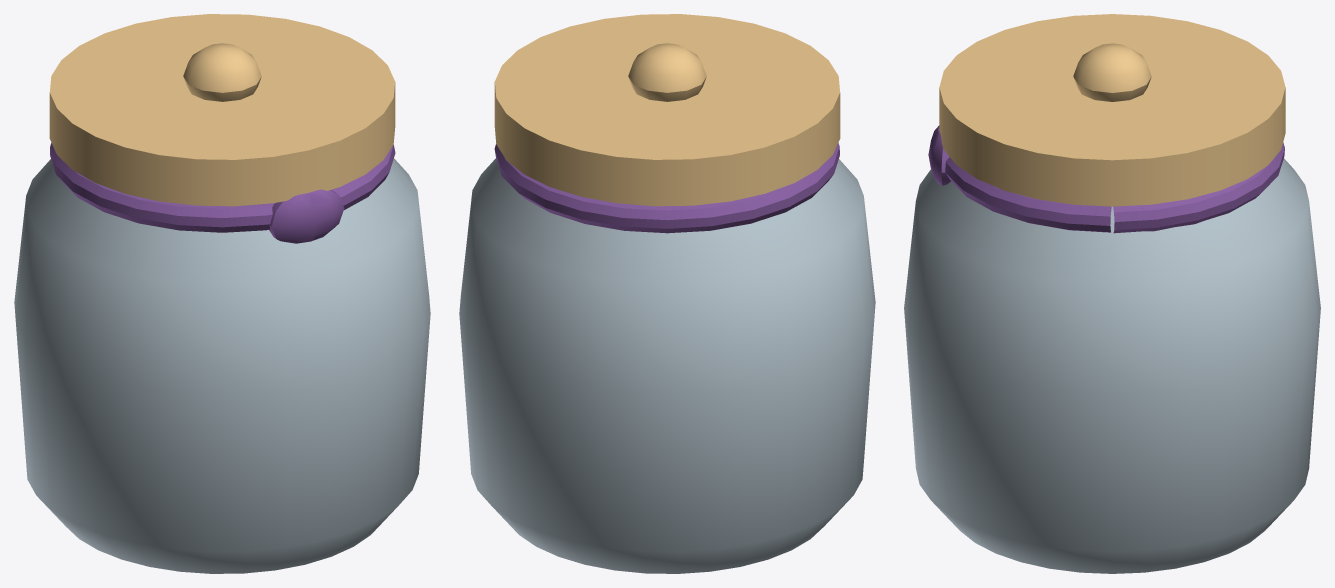
File: JAR.fbx
The picture shows the model from 3 angles, left to right: view 1: azimuth 30°, elevation 25°; view 2: azimuth 150°, elevation 25°; view 3: azimuth 270°, elevation 25°; orthographic projection.
Visible parts, largest first — view 1: Glass, Lid; view 2: Glass, Lid; view 3: Glass, Lid.
Boxes of the visible parts, x1=… form: Glass: x1=14, y1=158, x2=430, y2=573; Lid: x1=49, y1=14, x2=395, y2=243; Glass: x1=459, y1=158, x2=875, y2=573; Lid: x1=494, y1=14, x2=840, y2=233; Glass: x1=904, y1=158, x2=1320, y2=573; Lid: x1=928, y1=14, x2=1285, y2=233.
Size of the model in its own units: 1.06 by 1.28 by 1.06.
